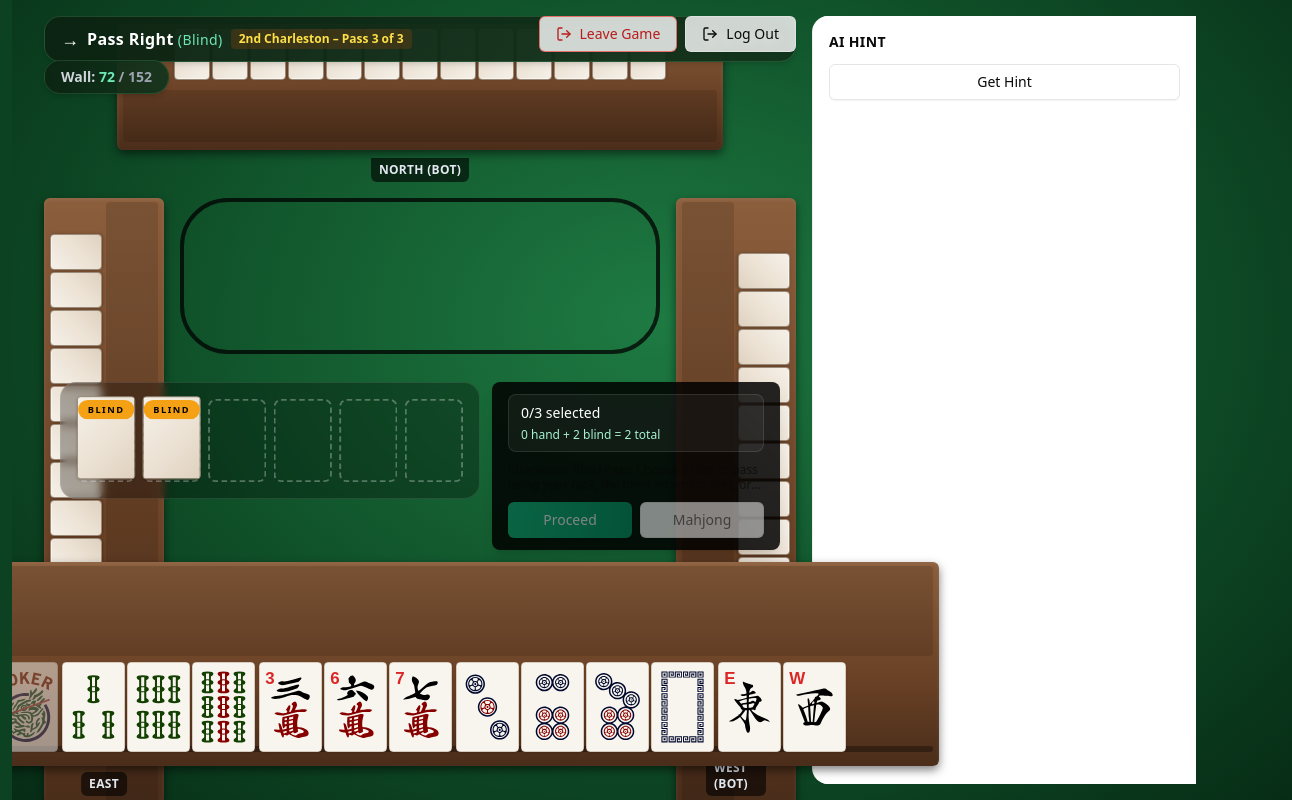
Test case: VR-010: Charleston Second Right blind incoming behavior › keeps submission on the action bar while the staging strip stays lane-only
Click the button named "3 Crack" at (290, 707), box [258, 662, 322, 752]
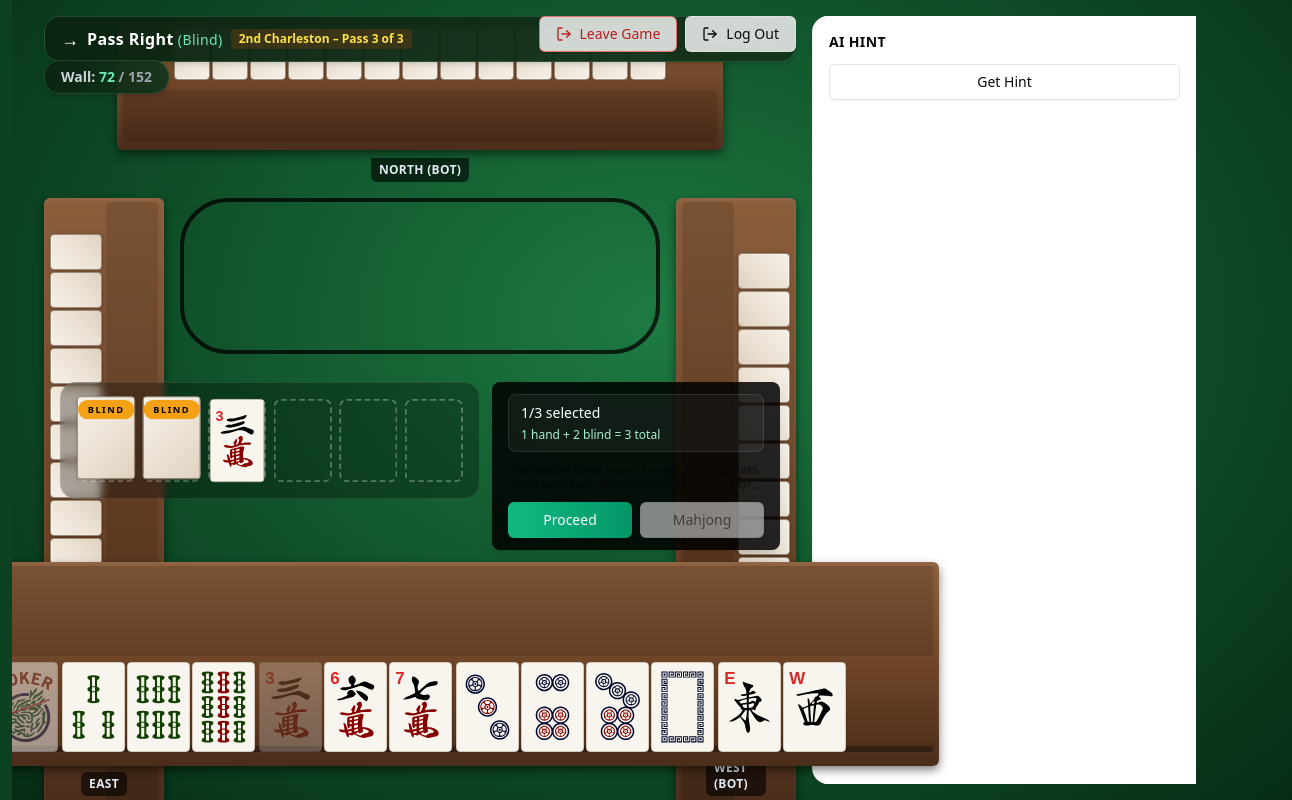
Click the button with test id "staging-incoming-tile-incoming-SecondRight-0-0" at (106, 438), box [77, 396, 135, 479]
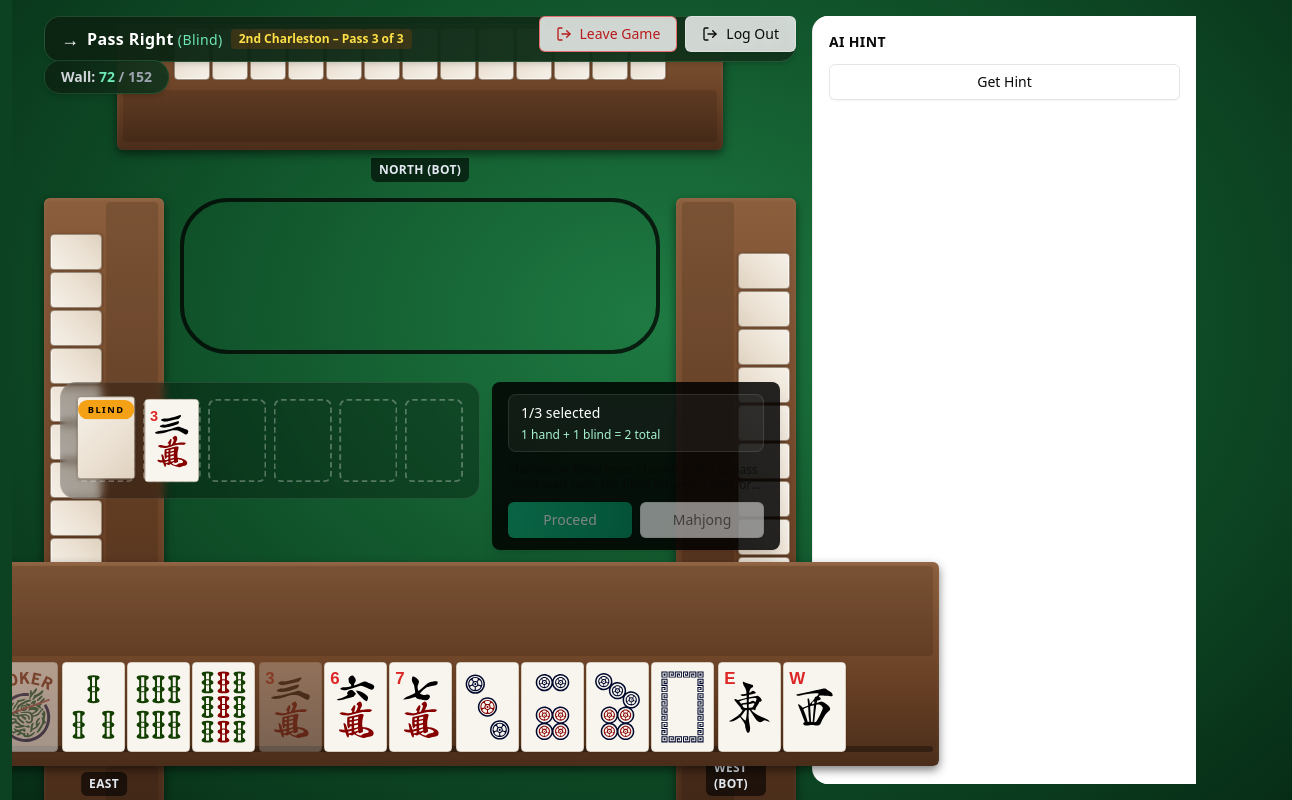
Click the button named "3 Dot" at (487, 707), box [456, 662, 518, 752]
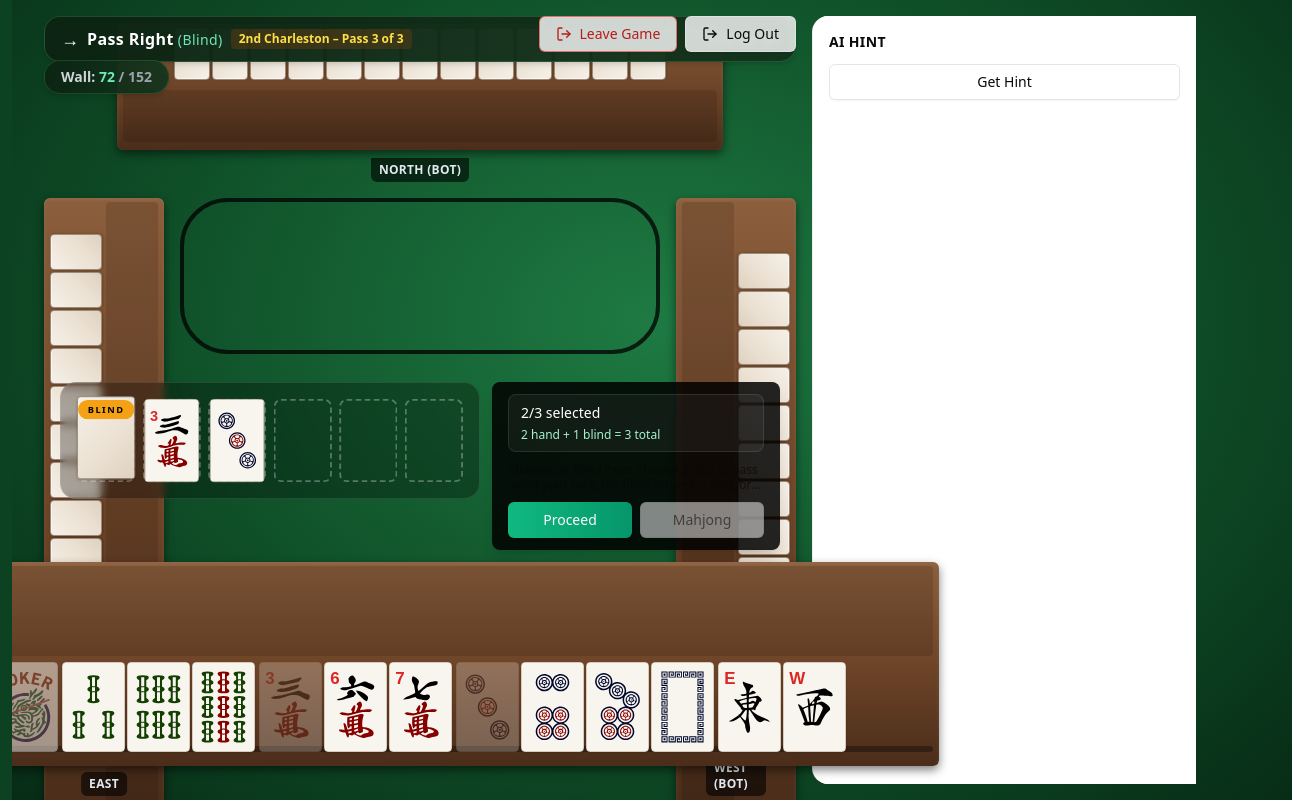
Now the button with test id "proceed-button" is enabled, box [508, 502, 632, 538]
